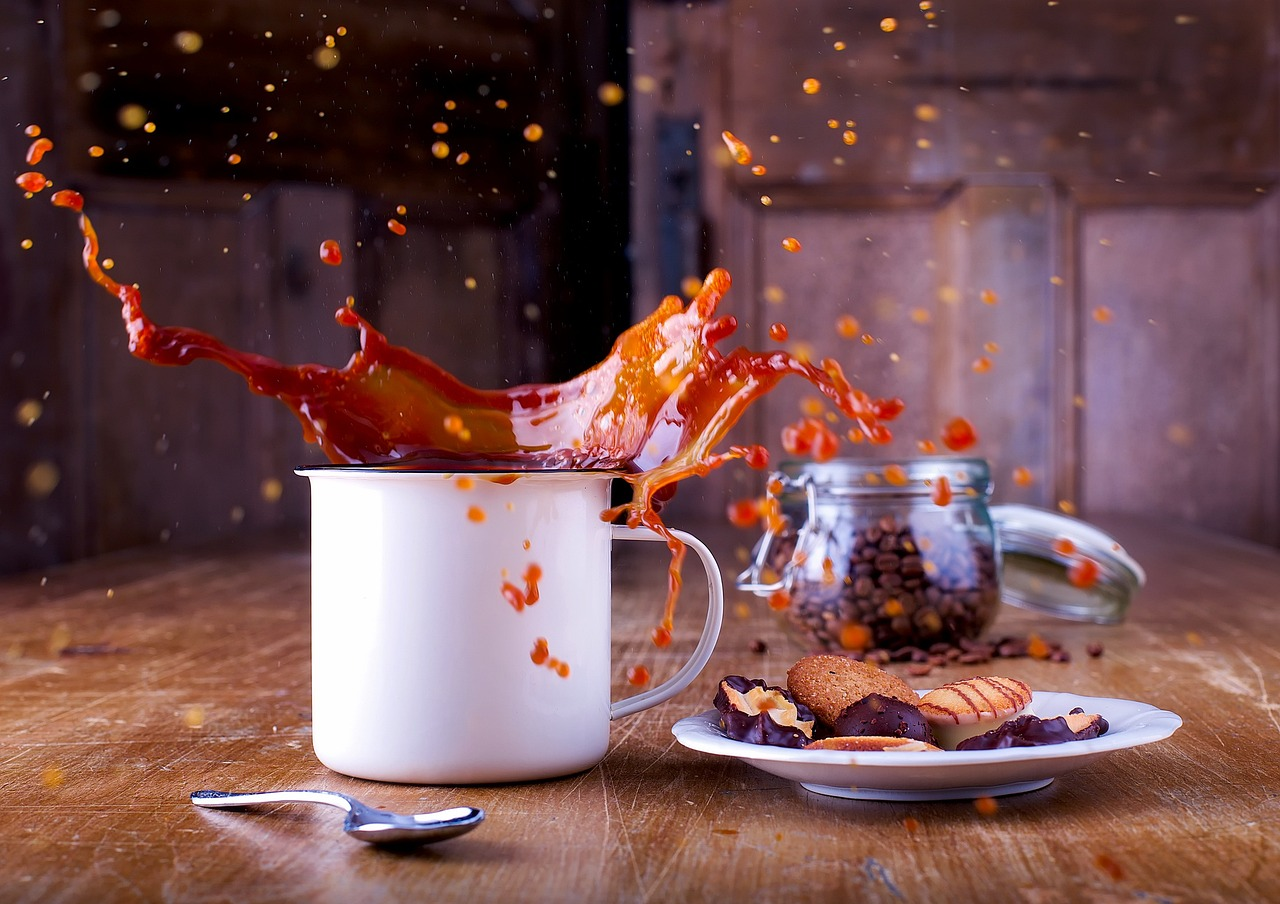mug: (254, 425, 732, 795)
